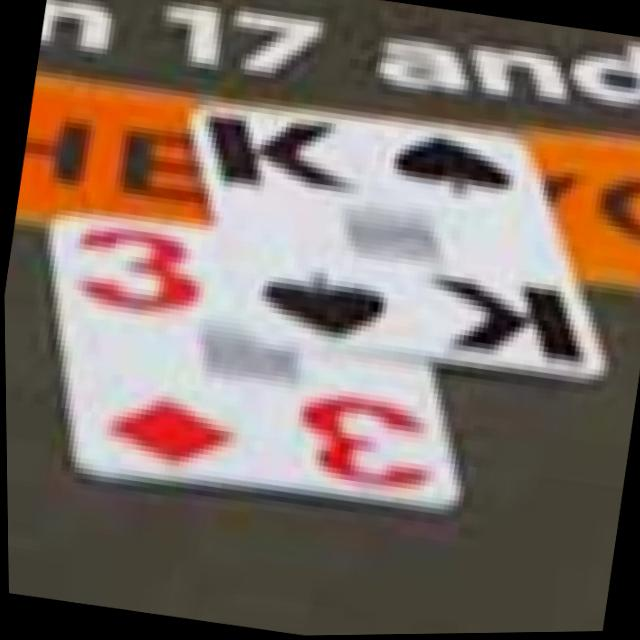Card-3: (53, 213, 450, 512)
Card-K: (197, 103, 605, 376)
